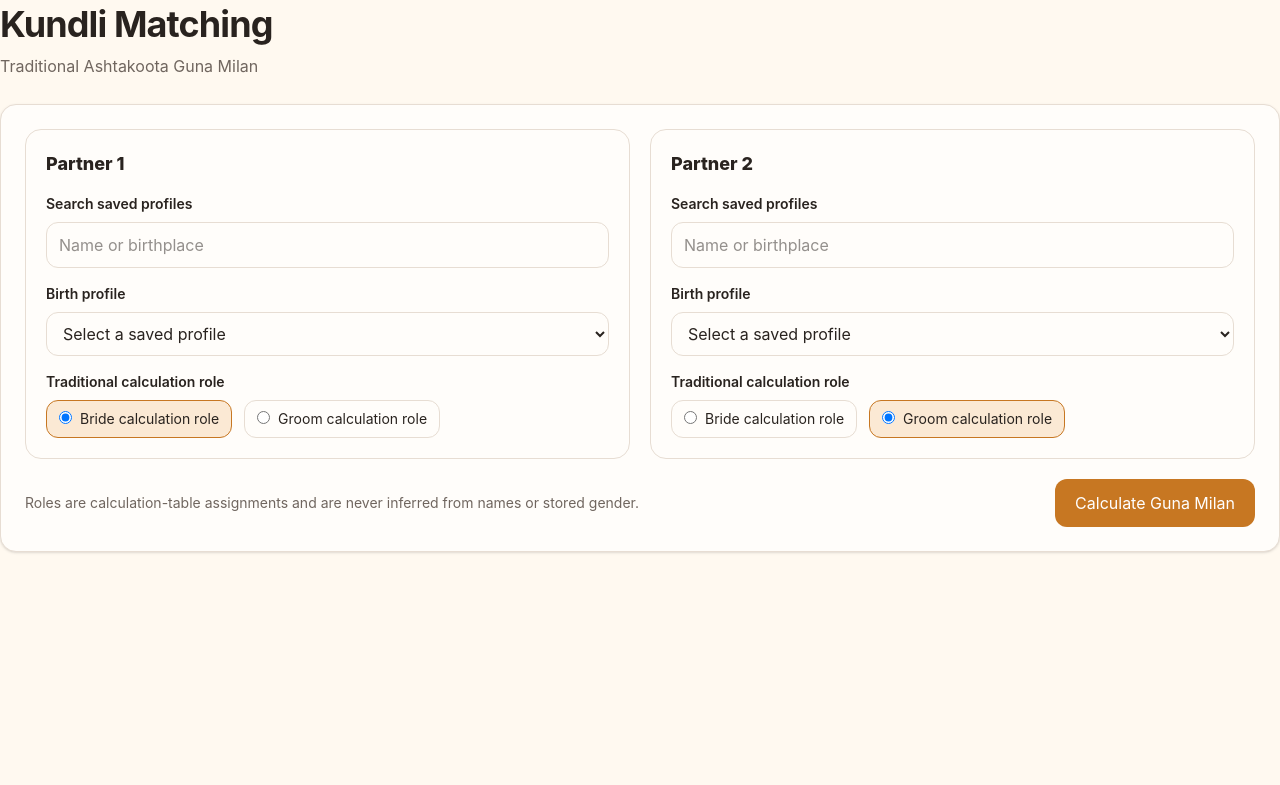
Test: MatchingPage › displays total, accessible progress, and exactly eight backend score rows
The width and height of the screenshot is (1280, 785).
Select "Rohini Partner · Sangrur" in the 1st dropdown labelled "Birth profile": (328, 334) [46,312,609,356]
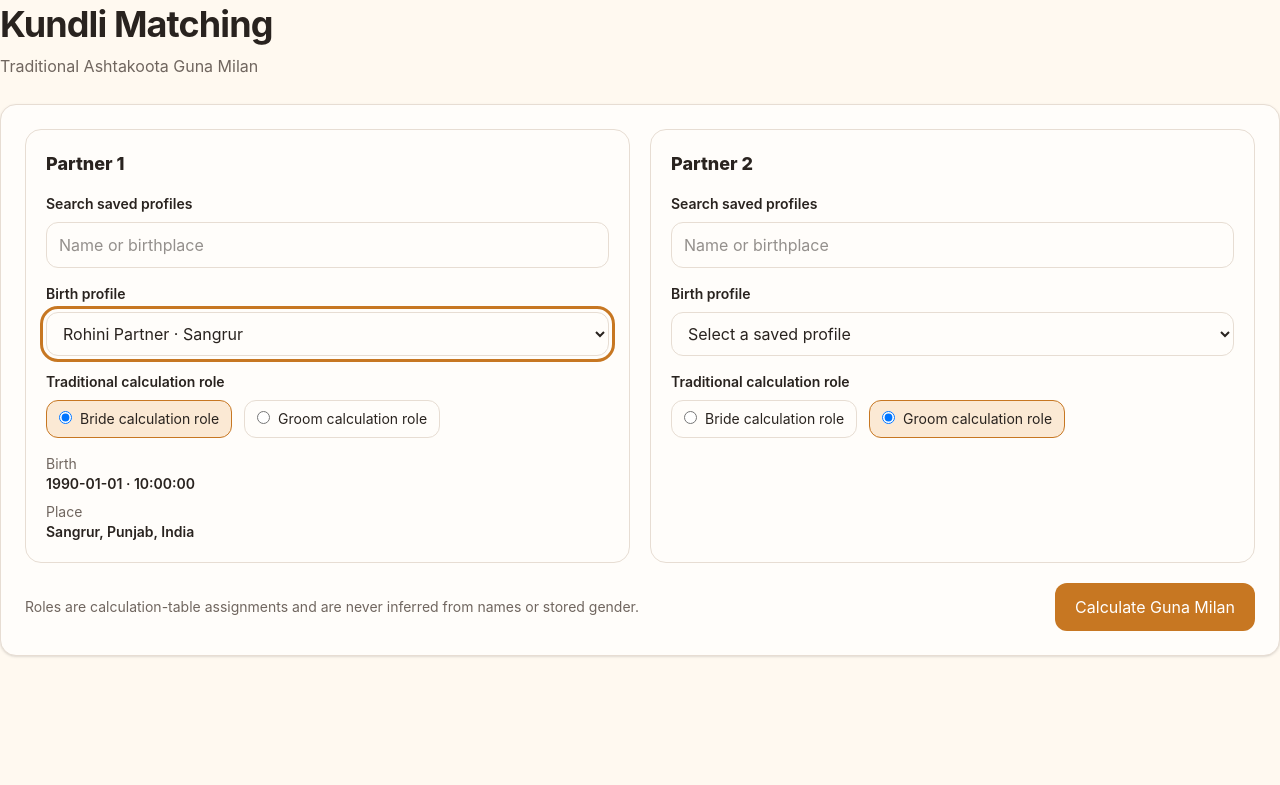
Select "Hasta Partner · Chandigarh" in the 2nd dropdown labelled "Birth profile": (952, 334) [671,312,1234,356]
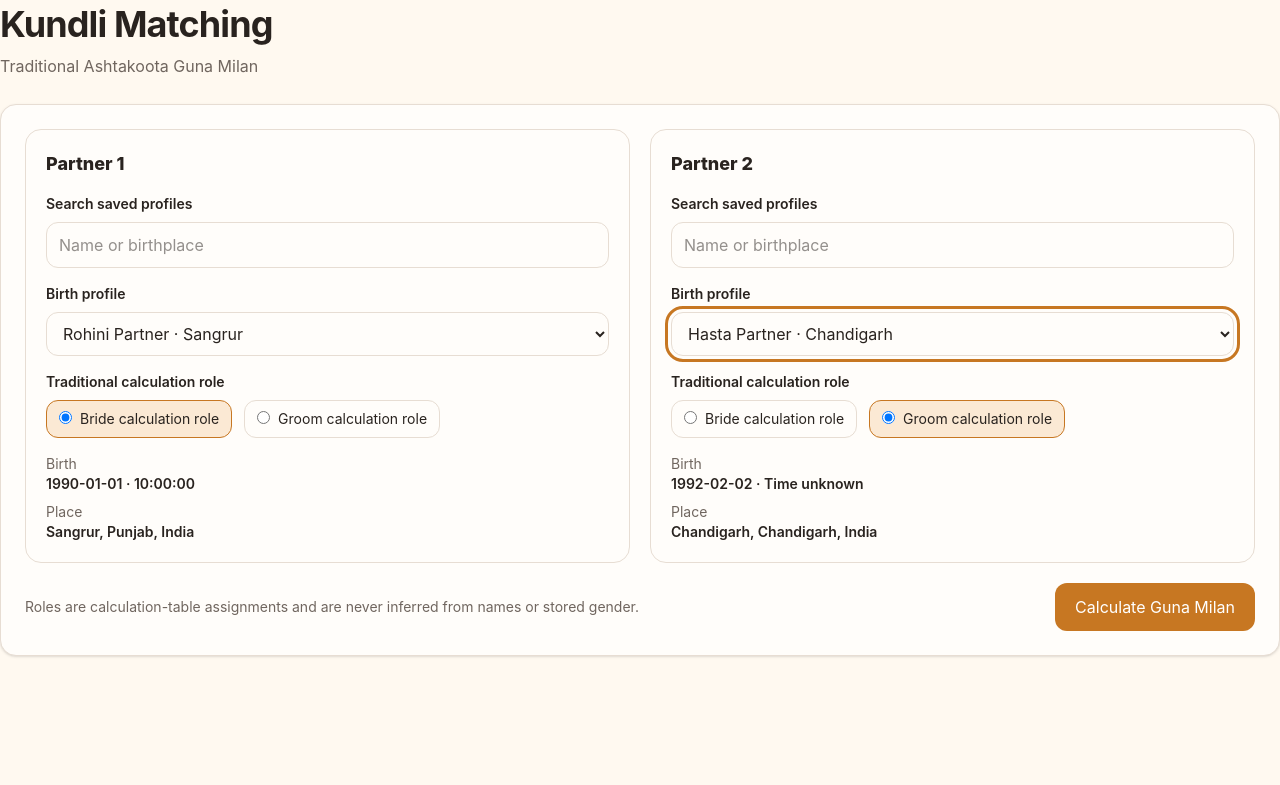
Click the button "Calculate Guna Milan": (1155, 607) [1055,583,1255,631]
(page scrolled)
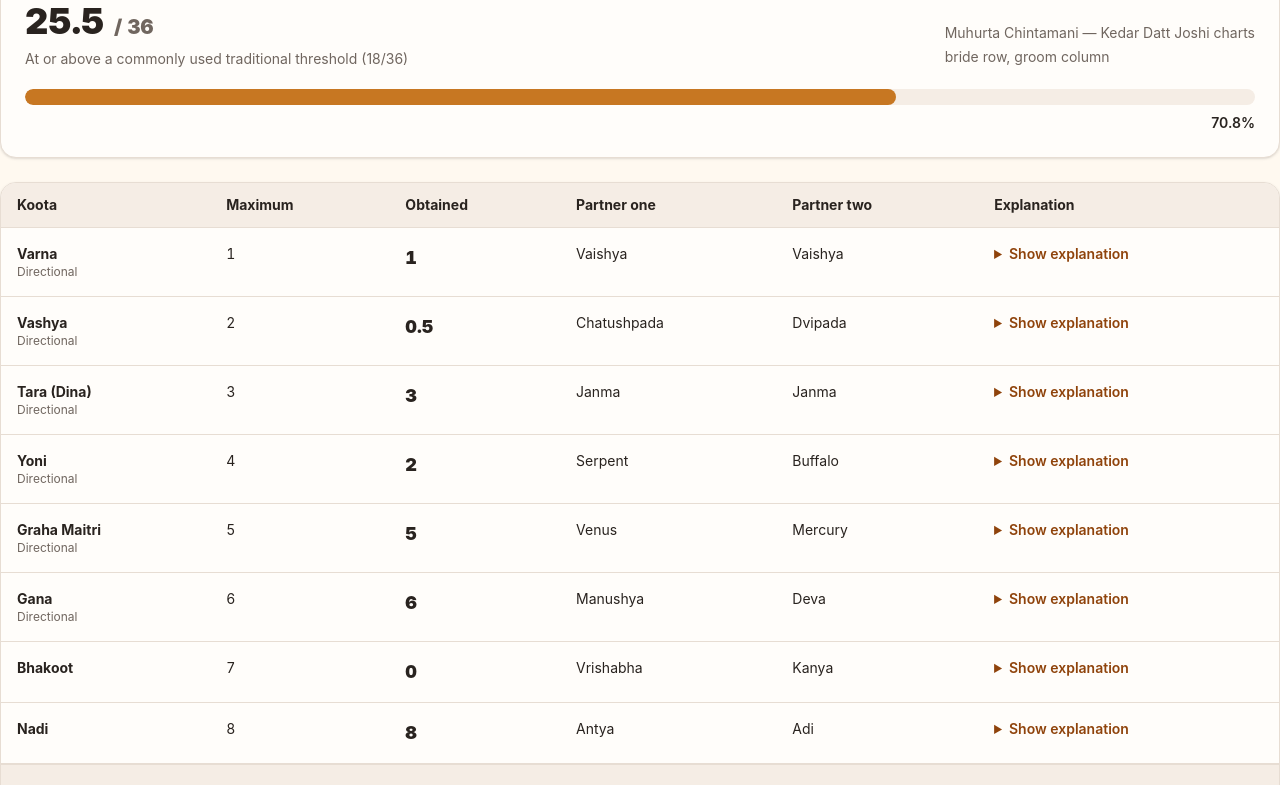
Now the text "25.5" is shown, box [25,0,104,43]
Now the number of rows is 10
Now the column heading "Tara (Dina) Directional" is shown, box [1,366,210,434]
